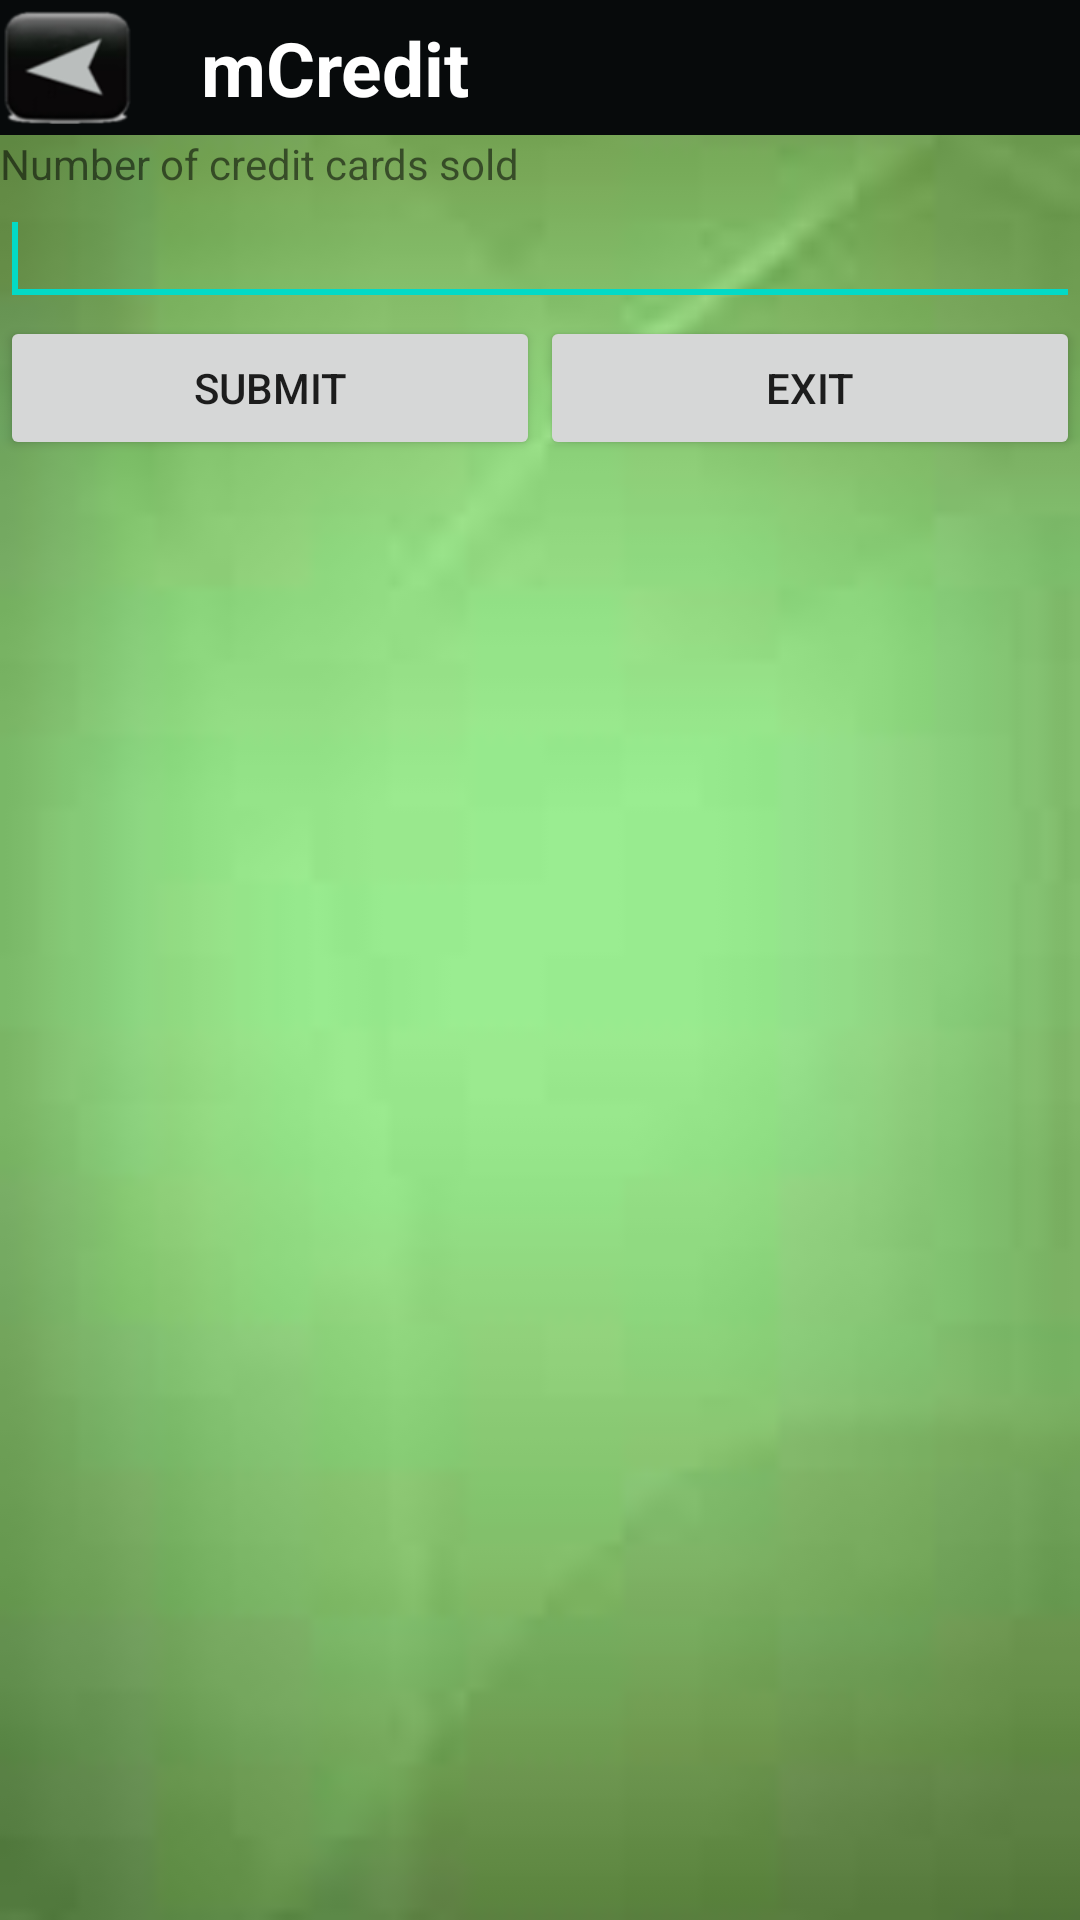

Point at icon controls on the screen. Image size 1080×1920, points as [x,y].
title home: [67,68]
